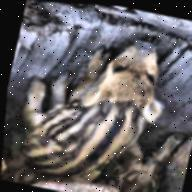boar: (16, 14, 177, 192), (115, 155, 157, 192)
